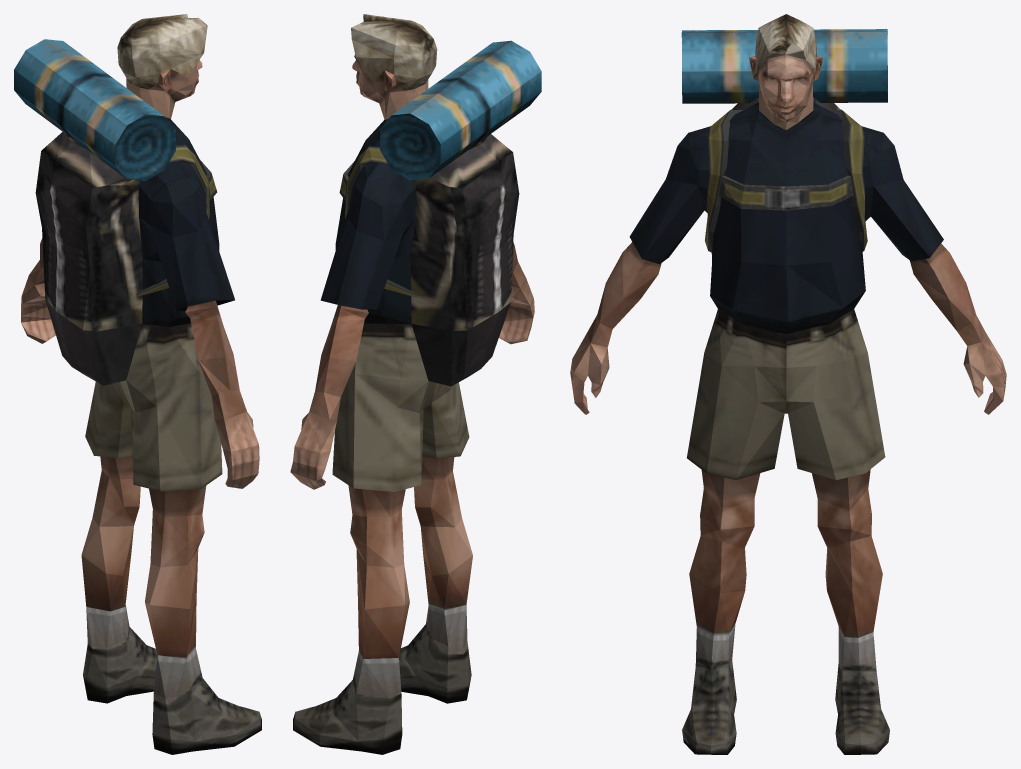
The model's file is wmybp.obj.
3 views of the same model, side by side, from view 1: azimuth 30°, elevation 25°; view 2: azimuth 150°, elevation 25°; view 3: azimuth 270°, elevation 25° (orthographic).
Visible parts, largest first — view 1: _Pelvis; view 2: _Pelvis; view 3: _Pelvis.
Part boxes in pixels (x1=…): _Pelvis: x1=14, y1=14, x2=261, y2=754; _Pelvis: x1=290, y1=14, x2=541, y2=754; _Pelvis: x1=570, y1=14, x2=1006, y2=754.
Size of the model in its own units: 0.4783 by 1.83 by 1.02.
1 material, 1 textured.
